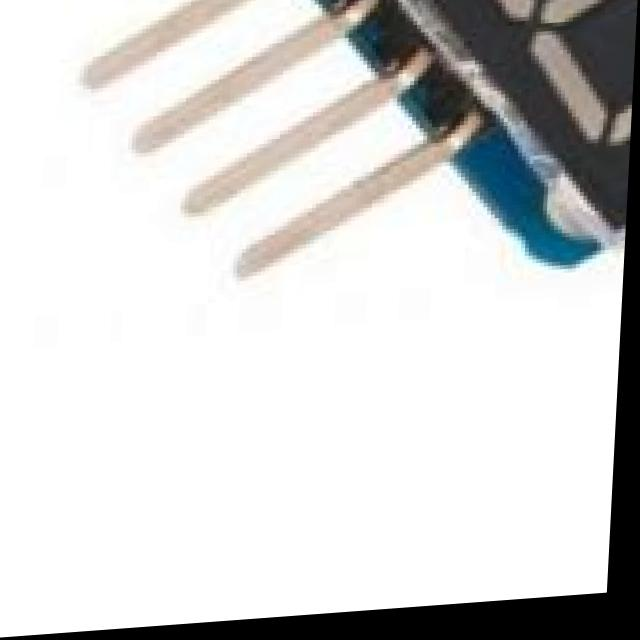connector: (28, 0, 497, 311)
display: (405, 0, 638, 257)
